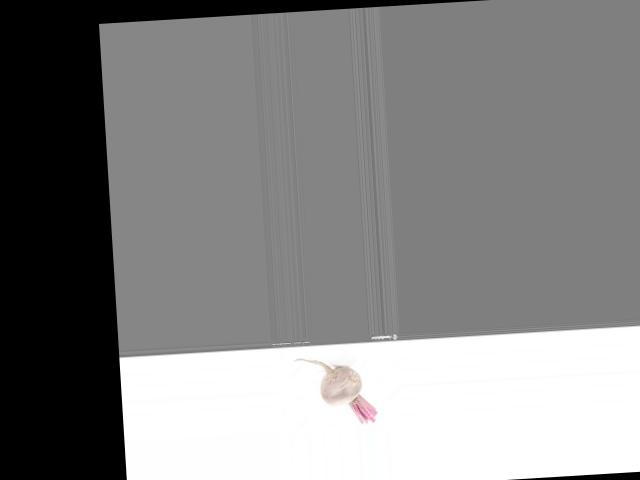beet: (293, 354, 377, 427)
